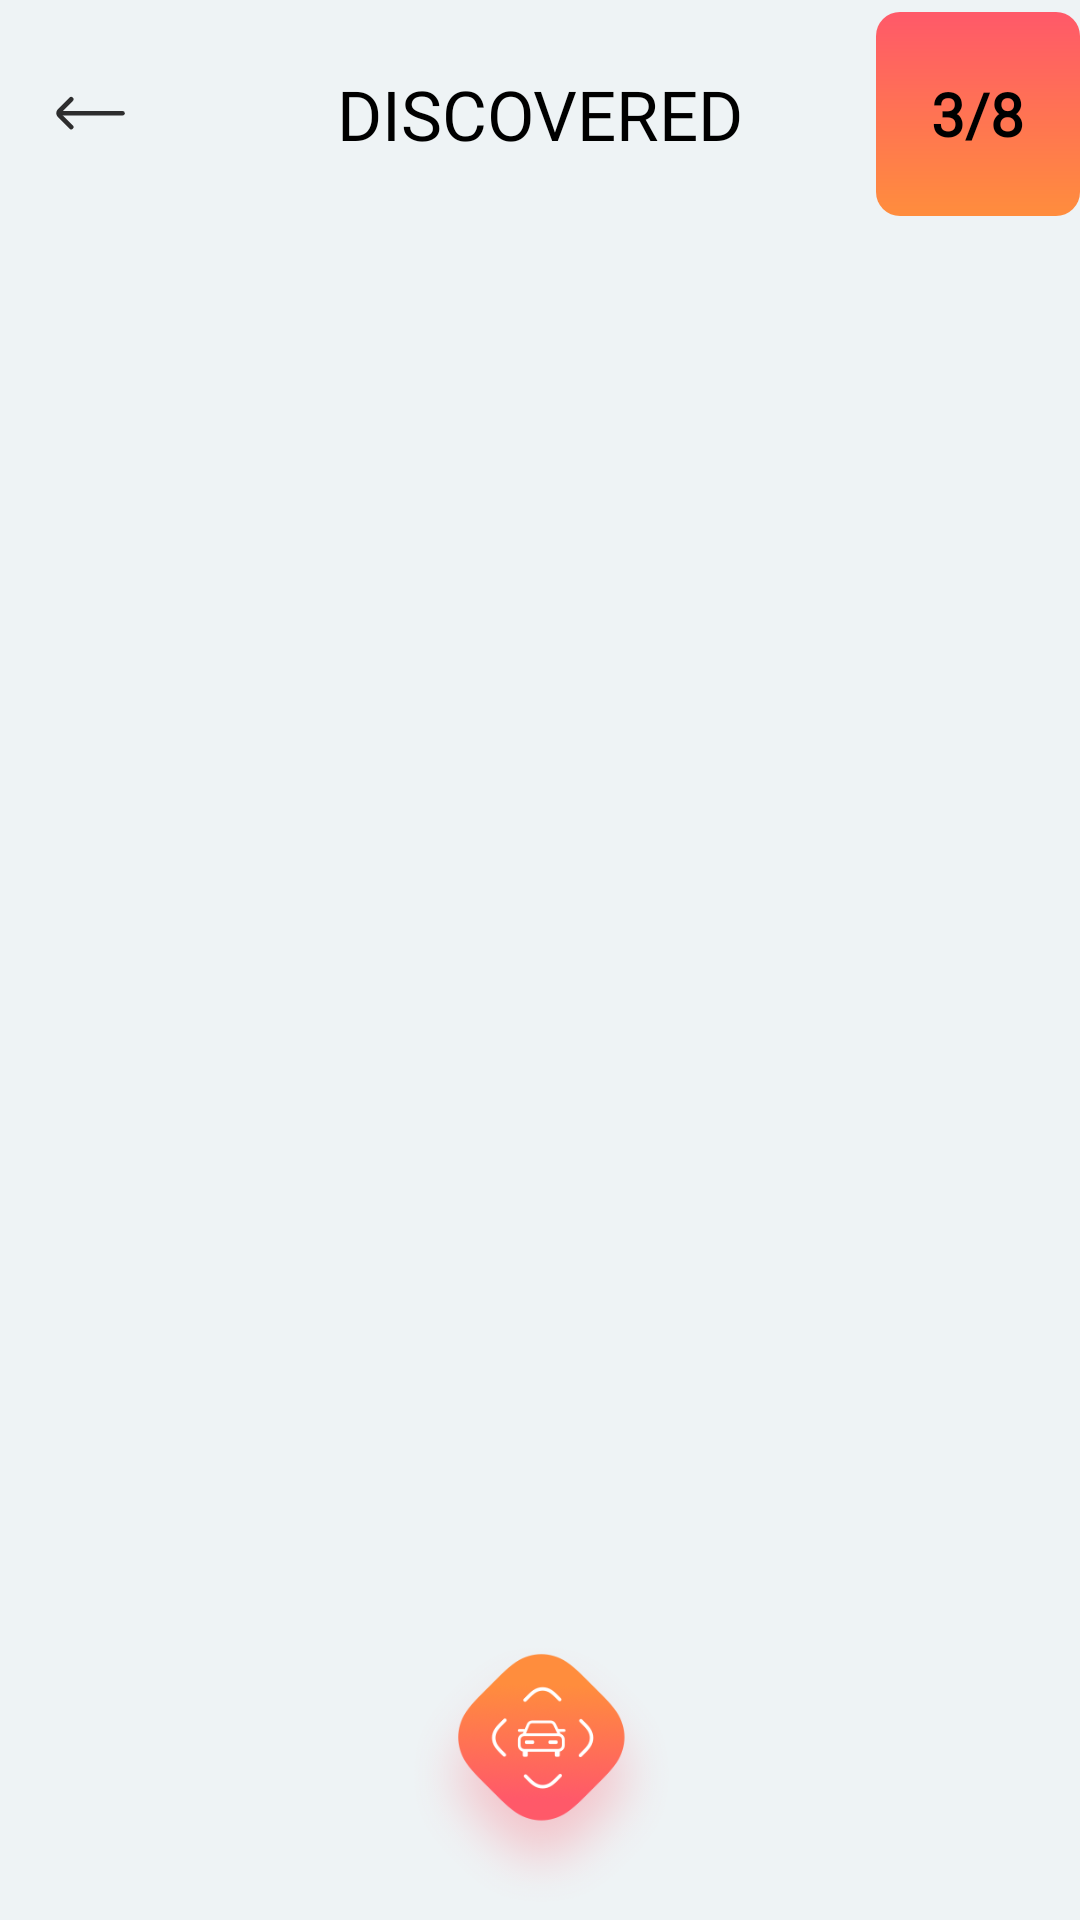

Named icons in this screenshot (1080×1920) and their bounding boxes, (x1, y1, x2, y2):
arrow: (56, 96, 125, 130)
